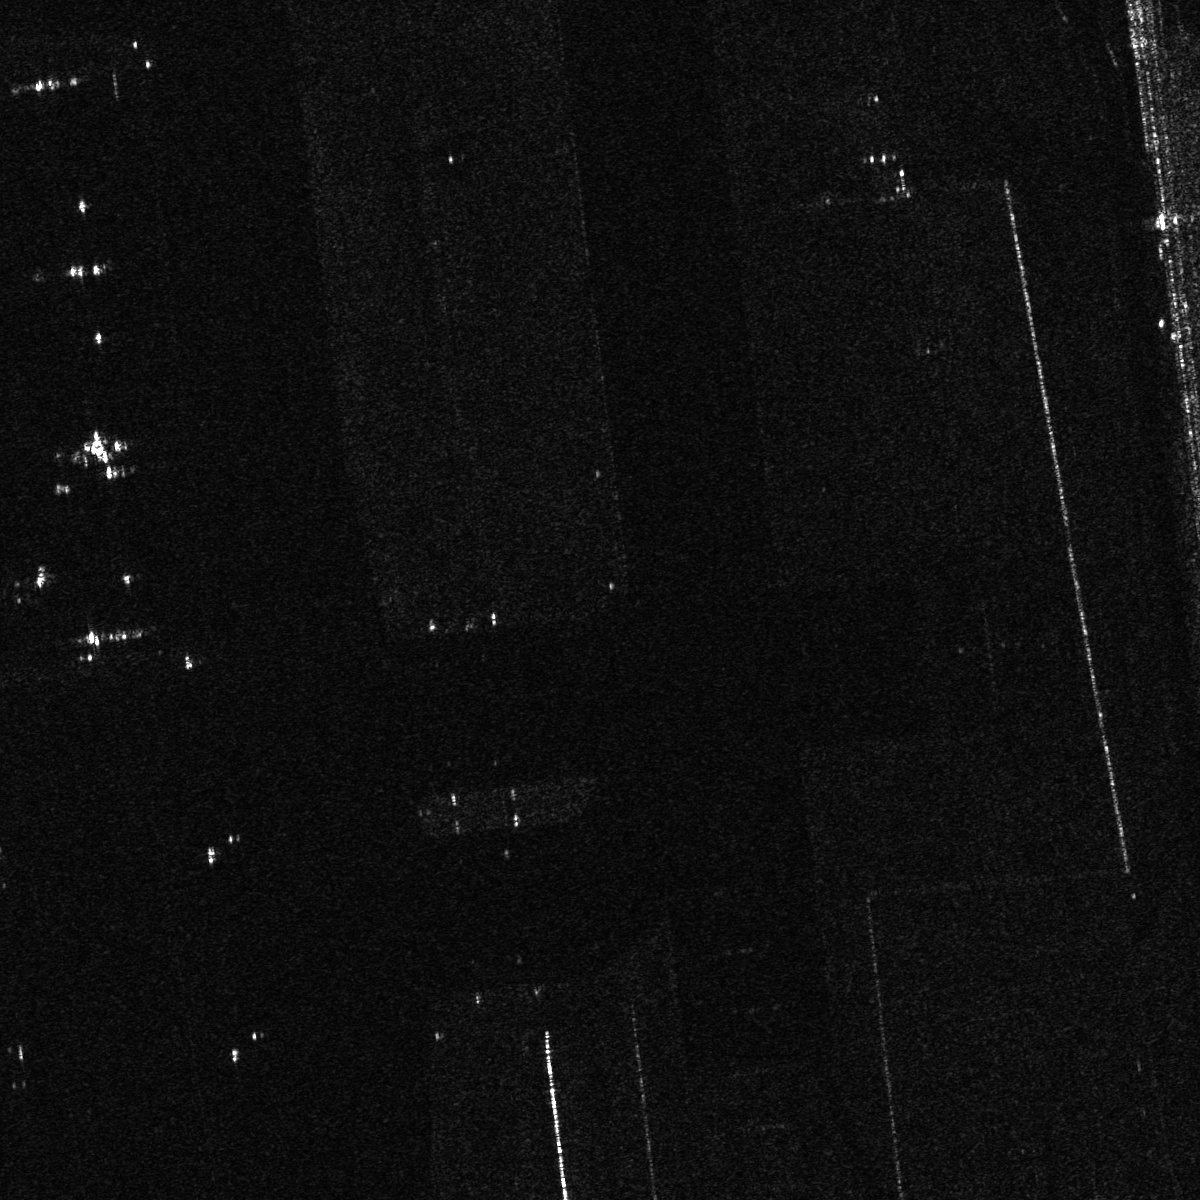A220: (71, 423, 133, 482)
